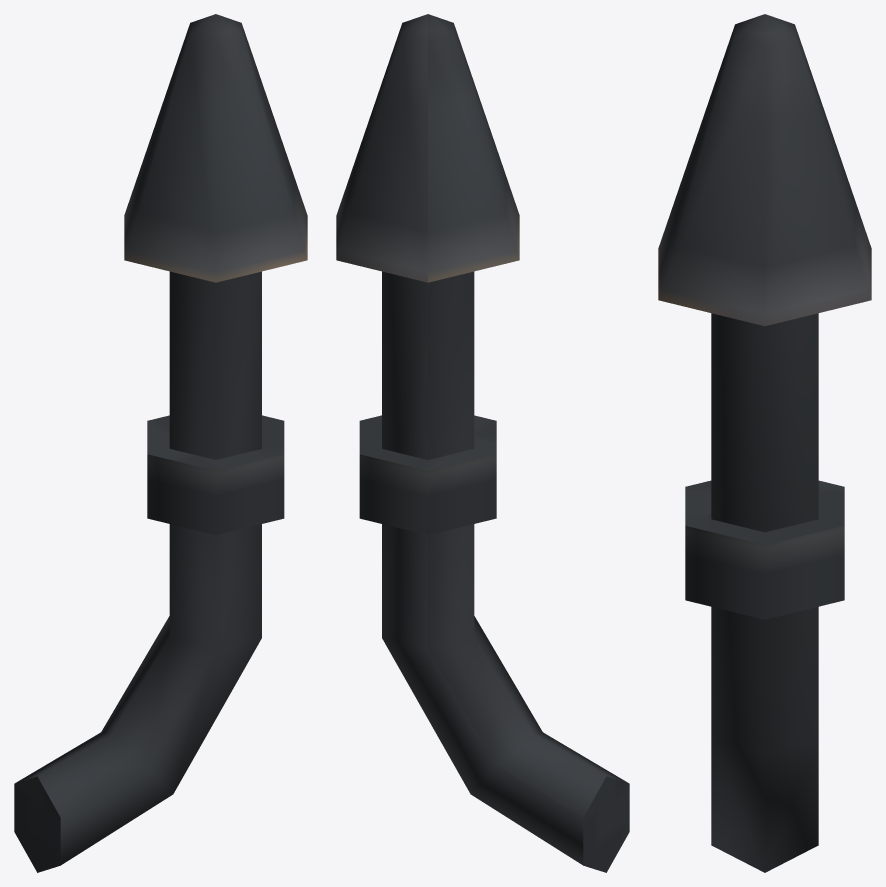
Rendered from chimney_v2.fbx.
The picture shows the model from 3 angles, left to right: view 1: azimuth 30°, elevation 25°; view 2: azimuth 150°, elevation 25°; view 3: azimuth 270°, elevation 25°; orthographic projection. The views are drawn at different scales.
Visible parts, largest first — view 1: chimney_v2; view 2: chimney_v2; view 3: chimney_v2.
Part boxes in pixels (box(x1,y1,x2,y2)): chimney_v2: box(14, 14, 307, 872); chimney_v2: box(336, 14, 629, 872); chimney_v2: box(658, 14, 871, 872).
Size of the model in its own units: 78.6 by 227 by 46.2.
